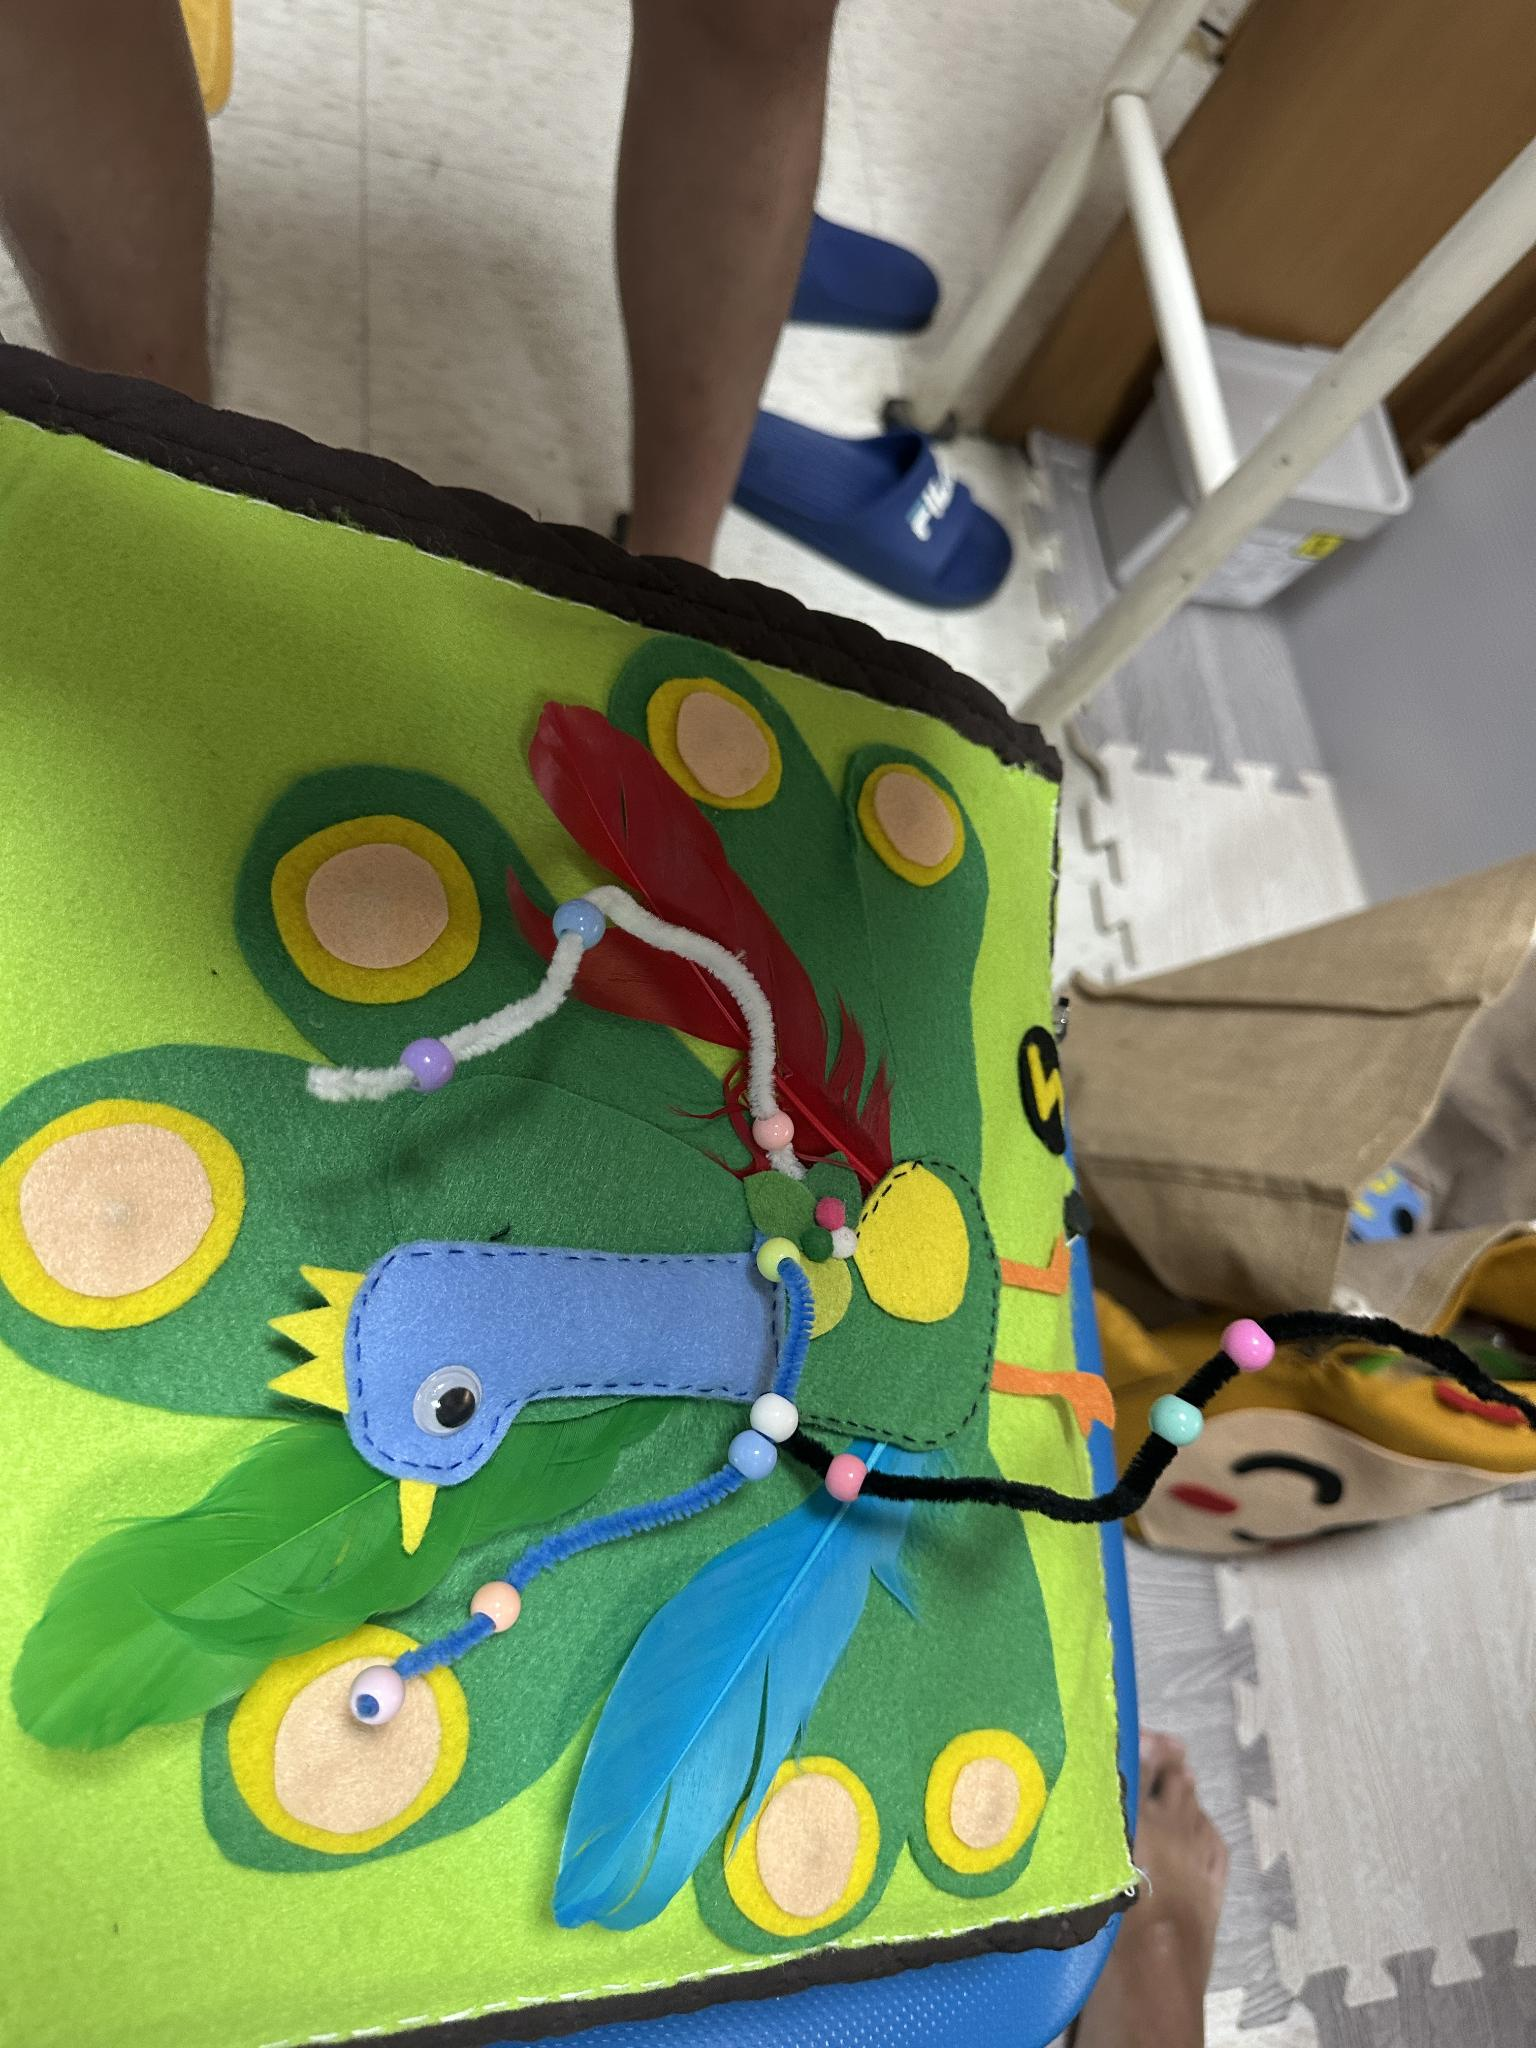bead: (549, 884, 621, 951), (357, 1655, 423, 1725), (397, 1032, 461, 1098), (750, 1226, 816, 1288), (1225, 1306, 1276, 1379), (1154, 1388, 1208, 1445), (476, 1576, 532, 1630), (720, 1429, 783, 1477), (831, 1445, 879, 1503), (742, 1108, 794, 1150), (752, 1393, 799, 1437)
